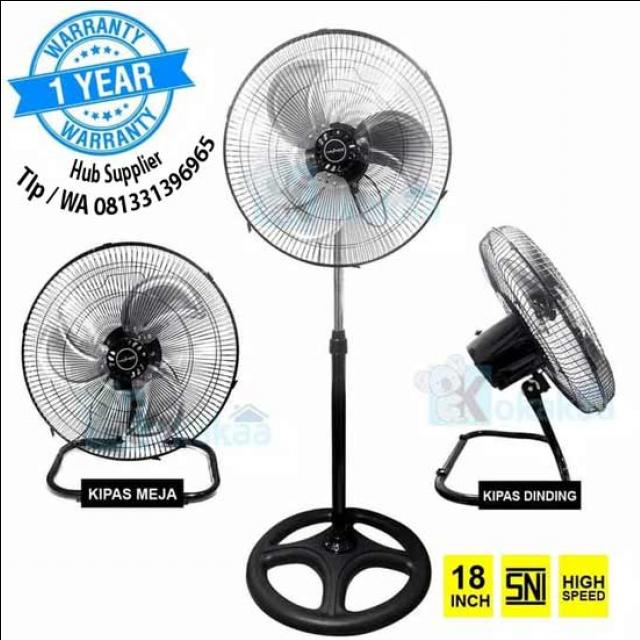fan: (227, 28, 450, 632)
